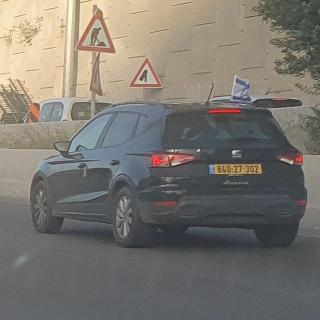LicensePlate: (215, 164, 261, 174)
